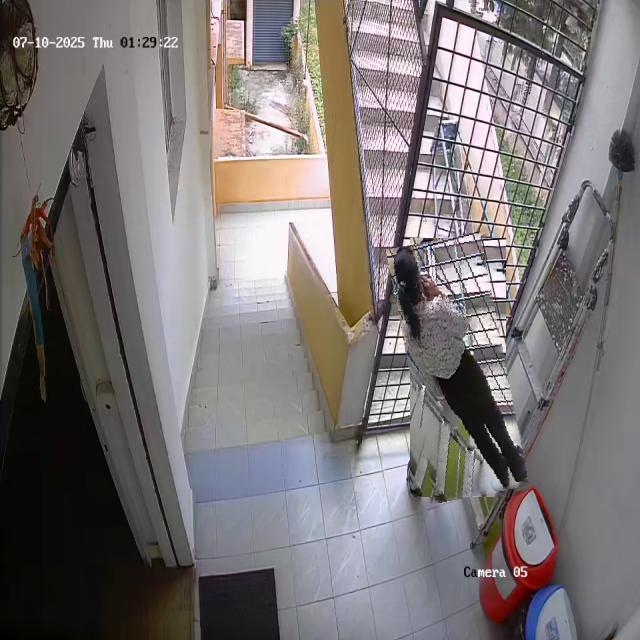person: (398, 235, 518, 500)
